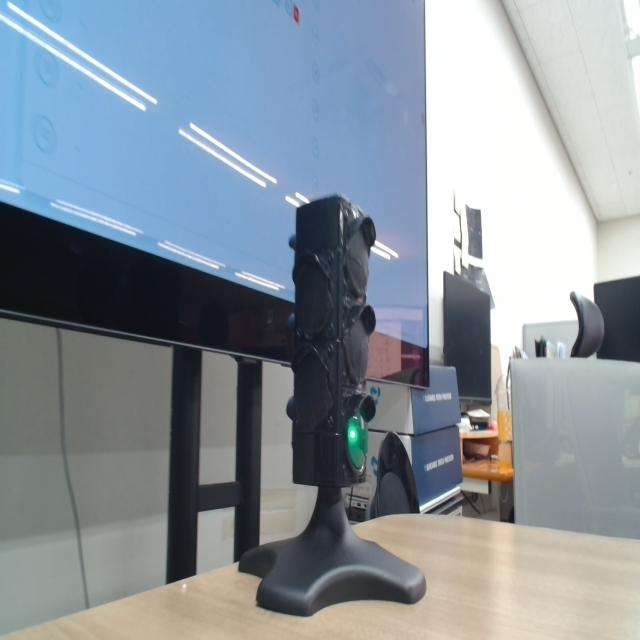green_light: (347, 414, 367, 469), (349, 429, 356, 440)
